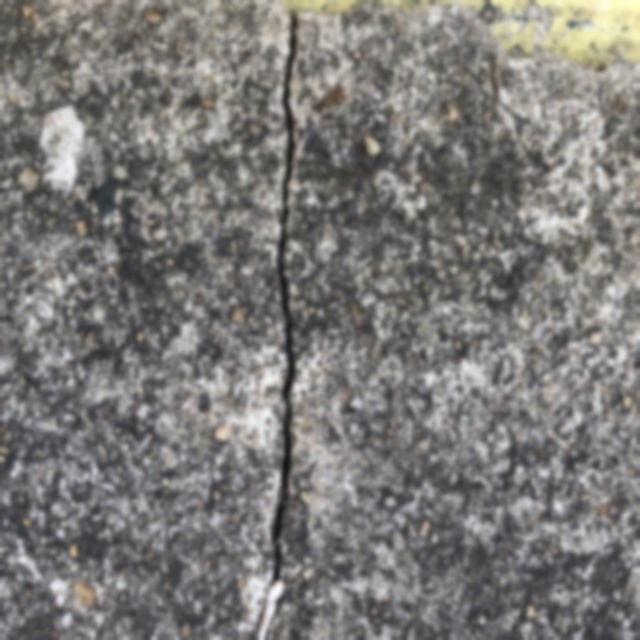SurfaceCrack: (200, 0, 375, 639)
